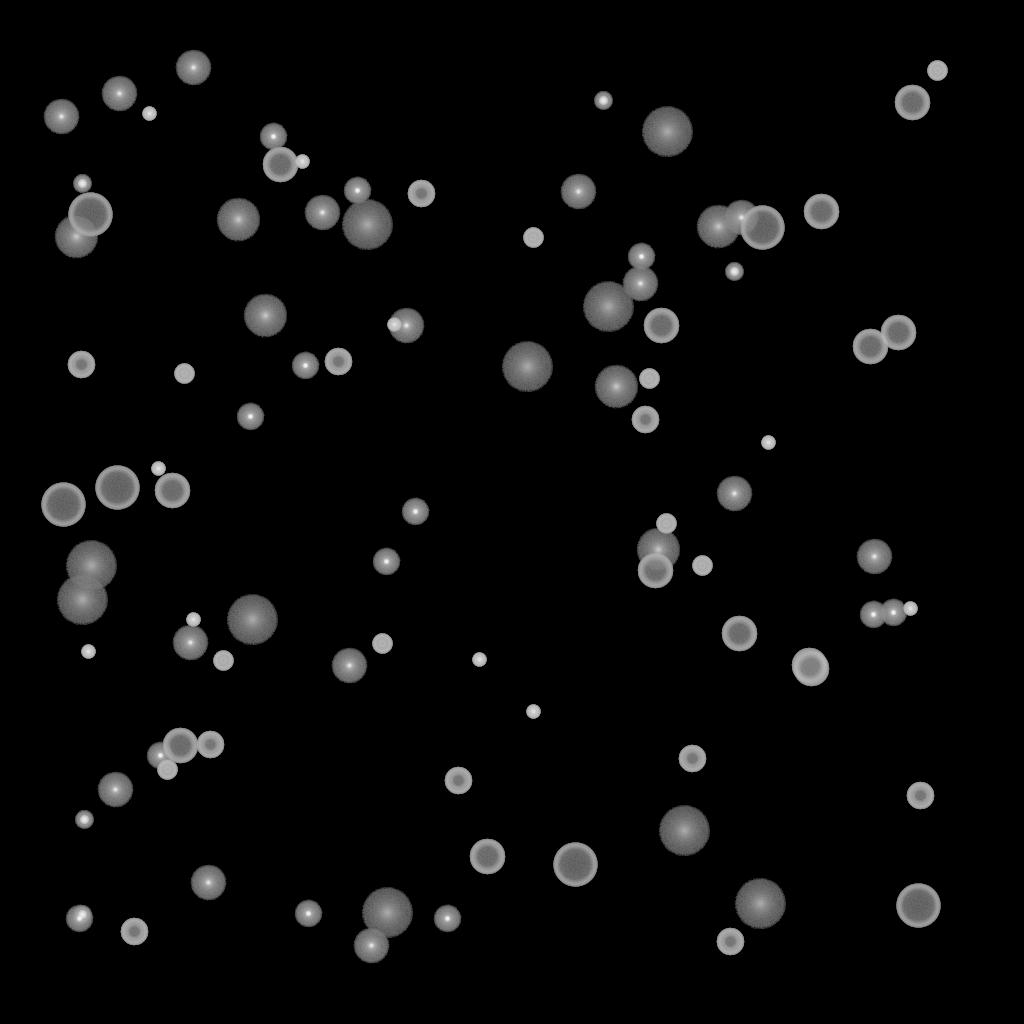depth:-10: (372, 548, 400, 576), (859, 601, 887, 629), (291, 352, 319, 380), (343, 177, 371, 205), (259, 123, 287, 151), (627, 243, 655, 271), (65, 905, 93, 933), (401, 498, 429, 526), (433, 905, 461, 933), (879, 599, 907, 627), (294, 900, 322, 928), (146, 742, 174, 770), (236, 403, 264, 431)
depth:-20: (73, 906, 91, 924), (594, 92, 612, 110), (73, 175, 91, 193), (725, 263, 743, 281), (75, 811, 93, 829)
depth:-30: (295, 155, 309, 169), (151, 462, 165, 476), (761, 436, 775, 450), (81, 645, 95, 659), (472, 653, 486, 667), (526, 705, 540, 719), (903, 602, 917, 616), (387, 318, 401, 332), (186, 613, 200, 627), (142, 107, 156, 121)
depth:-40: (213, 651, 233, 671), (372, 634, 392, 654), (523, 228, 543, 248), (639, 369, 659, 389), (174, 364, 194, 384), (692, 556, 712, 576), (656, 514, 676, 534), (927, 61, 947, 81), (157, 760, 177, 780)
depth:-50: (444, 767, 472, 795), (716, 928, 744, 956), (678, 745, 706, 773), (906, 782, 934, 810), (196, 731, 224, 759), (324, 348, 352, 376), (631, 406, 659, 434), (67, 351, 95, 379), (407, 180, 435, 208), (120, 918, 148, 946)
depth:-60: (262, 147, 298, 183), (880, 315, 916, 351), (721, 616, 757, 652), (469, 839, 505, 875), (852, 329, 888, 365), (894, 85, 930, 121), (154, 473, 190, 509), (791, 648, 827, 684), (803, 194, 839, 230), (637, 553, 673, 589), (643, 308, 679, 344), (162, 728, 198, 764), (793, 651, 829, 687)
depth:-70: (68, 193, 112, 237), (740, 206, 784, 250), (95, 466, 139, 510), (896, 884, 940, 928), (553, 843, 597, 887), (41, 483, 85, 527)
depth:0: (101, 76, 137, 112), (97, 772, 133, 808), (175, 50, 211, 86), (190, 865, 226, 901), (723, 200, 759, 236), (331, 648, 367, 684), (716, 476, 752, 512), (856, 539, 892, 575), (43, 99, 79, 135), (353, 928, 389, 964), (304, 195, 340, 231), (560, 174, 596, 210), (172, 625, 208, 661), (388, 308, 424, 344), (622, 266, 658, 302)
depth:10: (696, 205, 740, 249), (636, 528, 680, 572), (54, 215, 98, 259), (216, 198, 260, 242), (243, 294, 287, 338), (594, 365, 638, 409)
depth:20: (65, 541, 117, 591), (501, 342, 553, 392), (582, 282, 634, 332), (341, 200, 393, 250), (734, 879, 786, 929), (641, 107, 693, 157), (226, 595, 278, 645), (361, 888, 413, 938), (658, 806, 710, 856), (56, 575, 108, 625)
